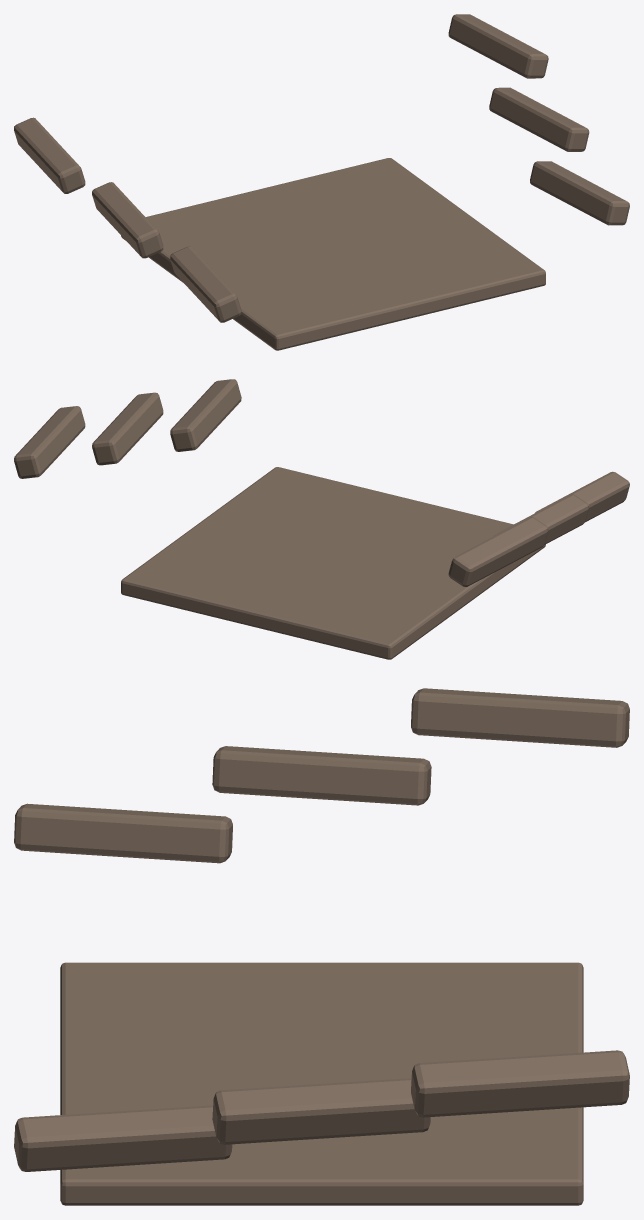
The model's file is biome_rootroads_roots_v1.glb.
3 views of the same model, one above another, from view 1: azimuth 30°, elevation 25°; view 2: azimuth 150°, elevation 25°; view 3: azimuth 270°, elevation 25° (orthographic). The views are drawn at different scales.
Visible parts, largest first — view 1: RootroadFloor, RootRib_1_2, RootRib_1_1, RootRib_1_0, RootRib_-1_1, RootRib_-1_0, RootRib_-1_2; view 2: RootroadFloor, RootRib_-1_2, RootRib_1_2, RootRib_1_0, RootRib_1_1, RootRib_-1_1, RootRib_-1_0; view 3: RootroadFloor, RootRib_1_2, RootRib_1_0, RootRib_1_1, RootRib_-1_2, RootRib_-1_1, RootRib_-1_0.
Part boxes in pixels (<box>): RootroadFloor: <box>121,158,545,350</box>; RootRib_1_2: <box>448,14,548,78</box>; RootRib_1_1: <box>489,87,589,151</box>; RootRib_1_0: <box>530,161,629,225</box>; RootRib_-1_1: <box>92,182,163,258</box>; RootRib_-1_0: <box>170,246,241,322</box>; RootRib_-1_2: <box>14,117,85,193</box>; RootroadFloor: <box>121,467,545,659</box>; RootRib_-1_2: <box>448,517,548,586</box>; RootRib_1_2: <box>14,406,85,478</box>; RootRib_1_0: <box>170,379,241,451</box>; RootRib_1_1: <box>92,392,163,465</box>; RootRib_-1_1: <box>494,494,589,544</box>; RootRib_-1_0: <box>535,471,629,522</box>; RootroadFloor: <box>60,962,583,1205</box>; RootRib_1_2: <box>411,1050,629,1117</box>; RootRib_1_0: <box>14,1105,232,1171</box>; RootRib_1_1: <box>212,1078,430,1144</box>; RootRib_-1_2: <box>411,688,629,747</box>; RootRib_-1_1: <box>212,746,431,805</box>; RootRib_-1_0: <box>14,803,232,863</box>.
Bounding box in the file's own units: 2.62 × 0.6683 × 1.71.
